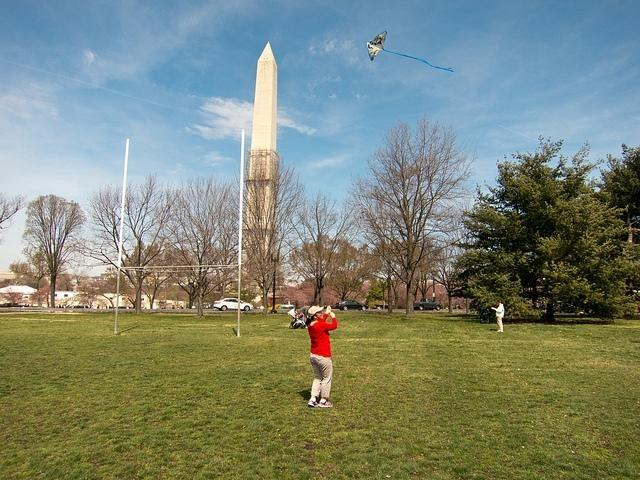car: (212, 297, 254, 312), (336, 300, 370, 311), (276, 306, 296, 310)
truck: (413, 298, 441, 310)
